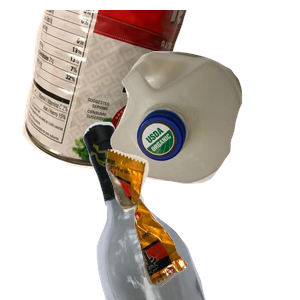glass: (81, 120, 300, 300)
metal: (20, 10, 199, 172)
plastic: (108, 49, 300, 226)
trash: (103, 147, 300, 300)
